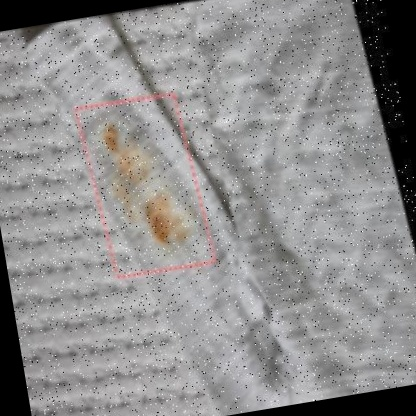kimchi: (100, 105, 197, 265)
